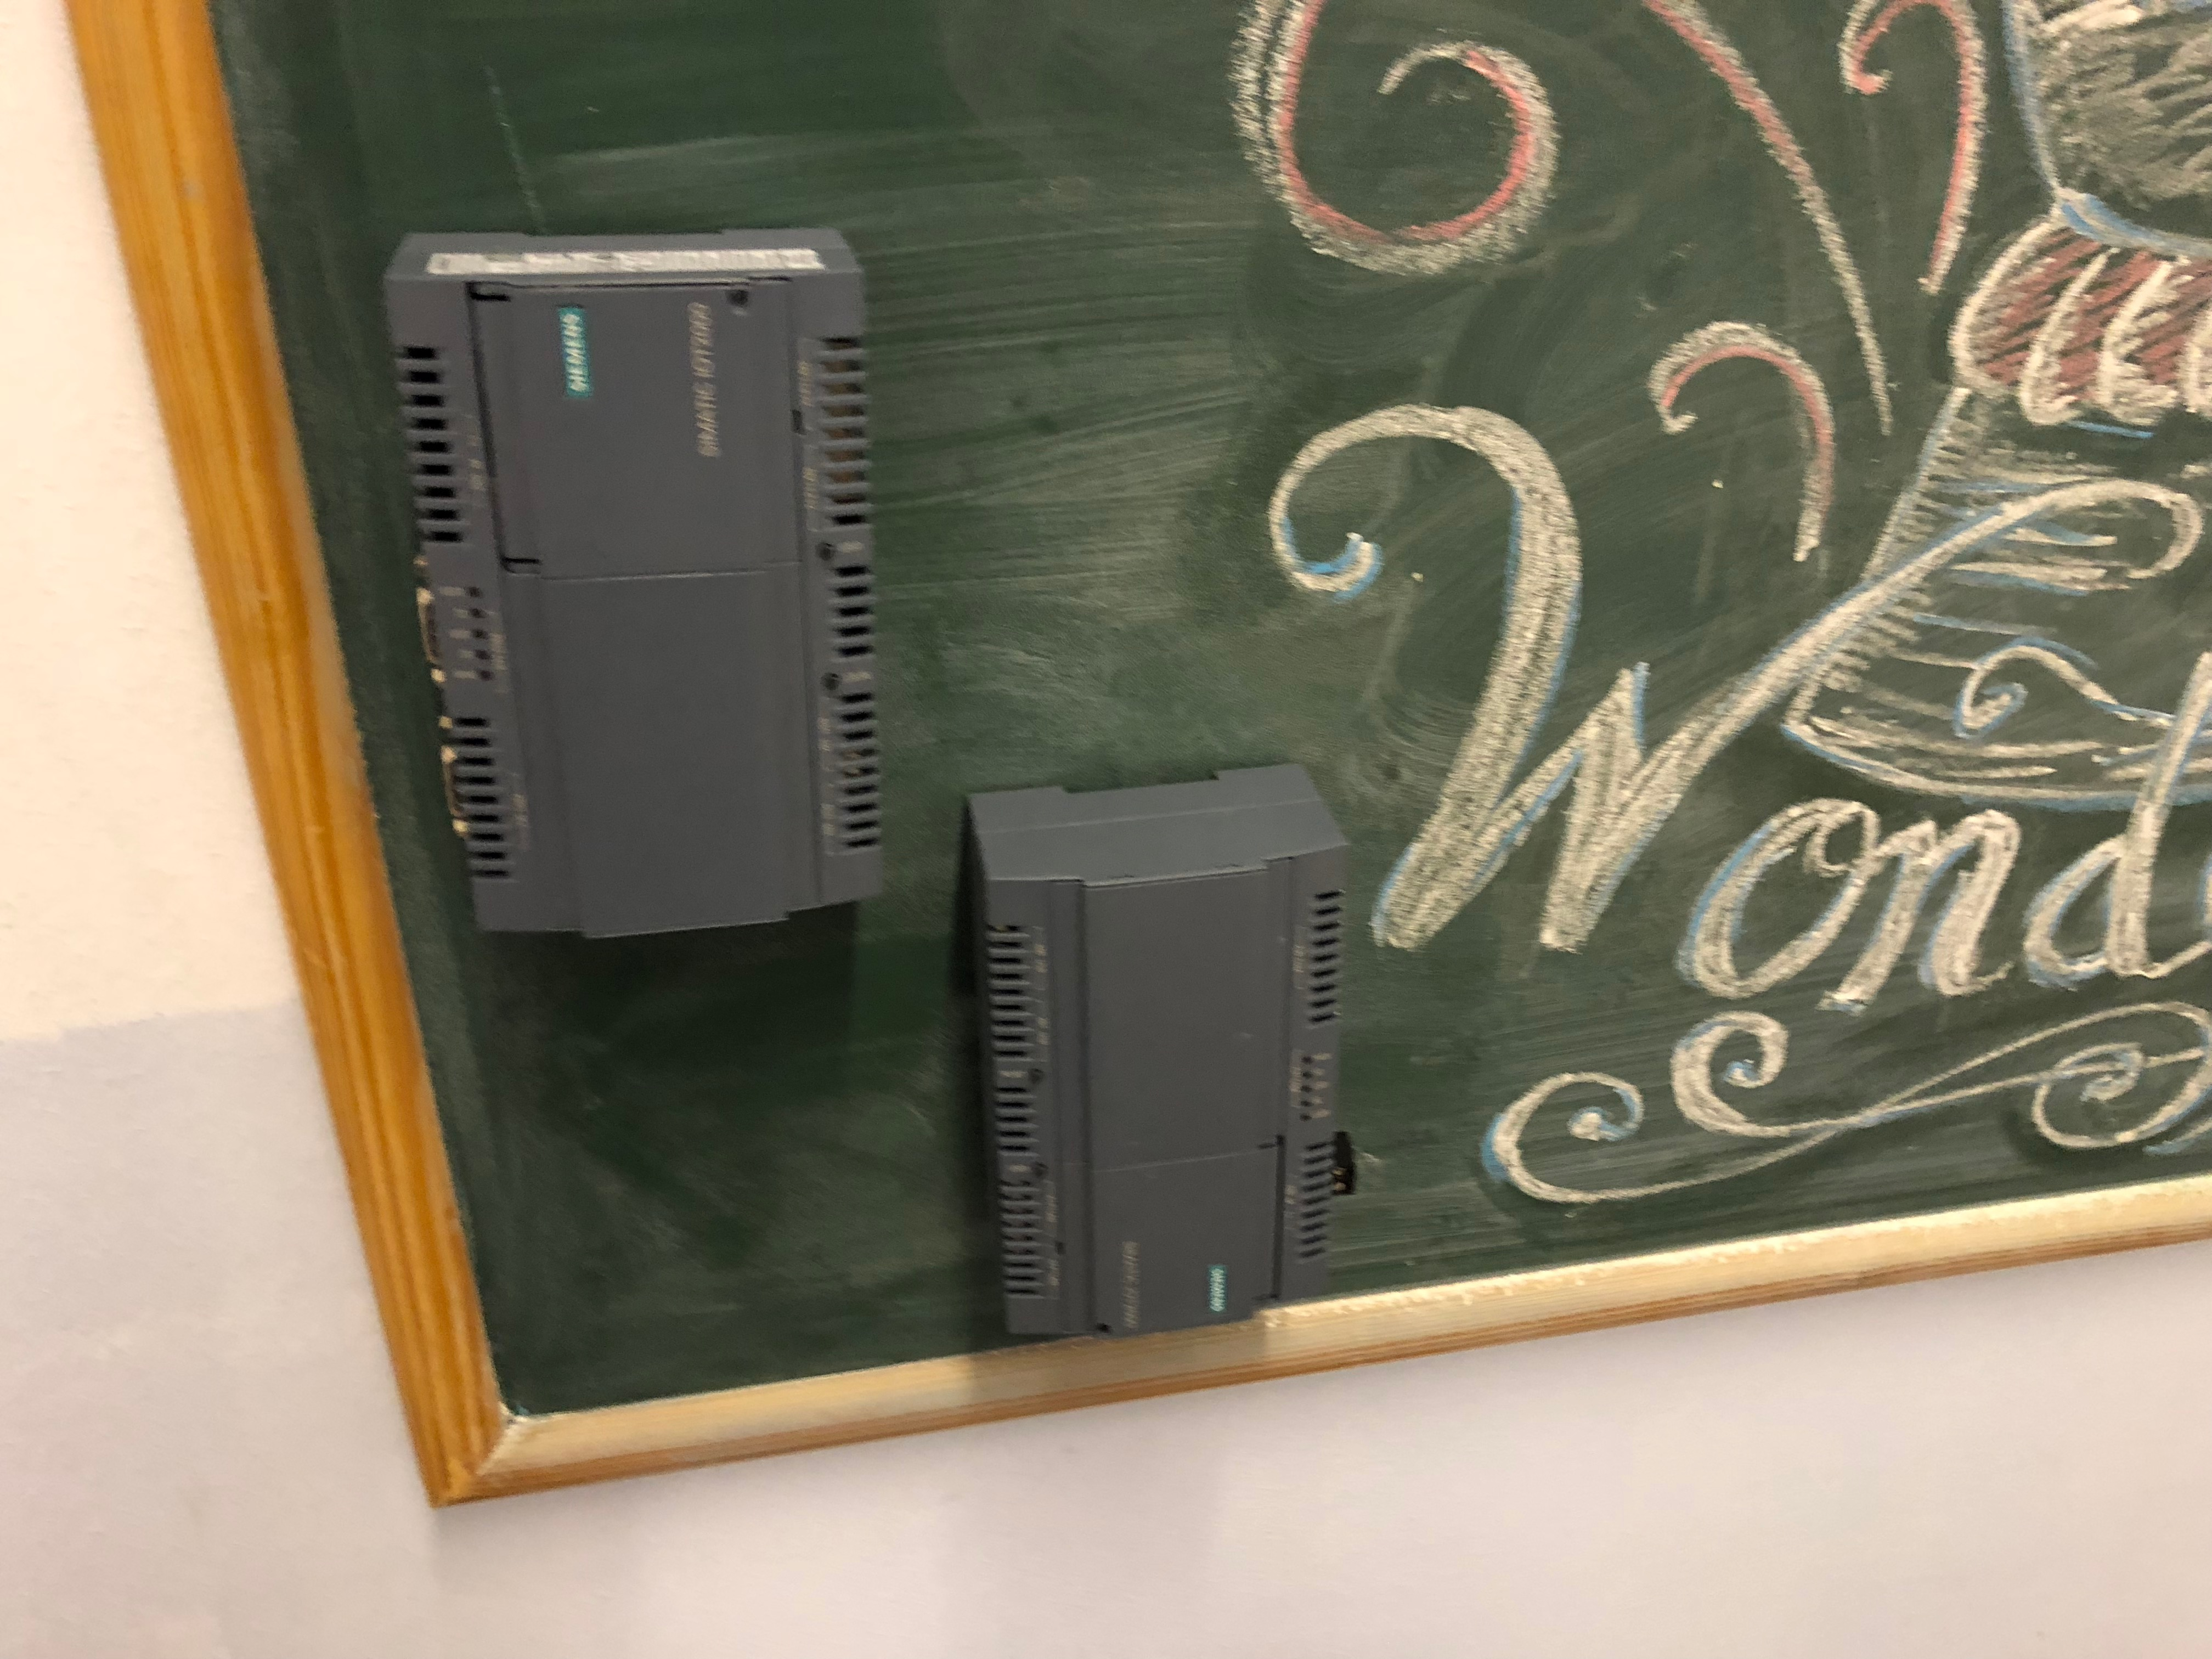device: (385, 230, 885, 939), (965, 763, 1357, 1342)
